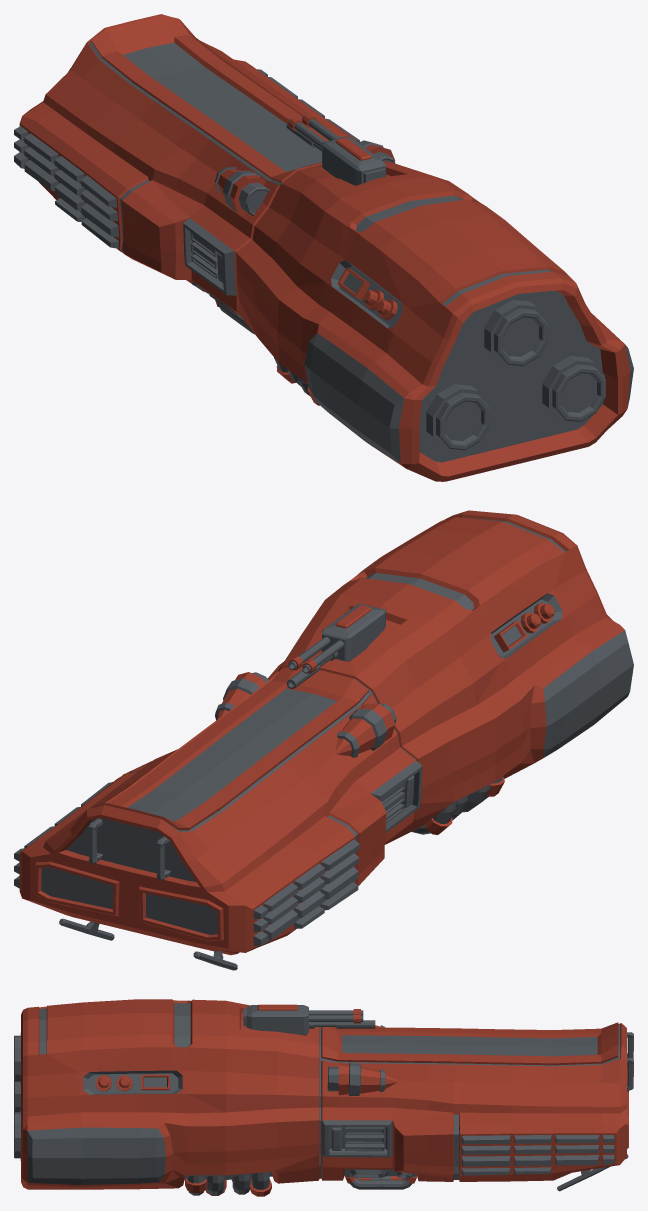
The model's file is Dropship_03_Red.fbx.
3 views of the same model, one above another, from view 1: azimuth 30°, elevation 25°; view 2: azimuth 150°, elevation 25°; view 3: azimuth 270°, elevation 25° (orthographic). The views are drawn at different scales.
Visible parts, largest first — view 1: Dropship_03_Red; view 2: Dropship_03_Red; view 3: Dropship_03_Red.
Part boxes in pixels (x1,y1,x2,y2): Dropship_03_Red: (14, 14, 633, 481); Dropship_03_Red: (14, 510, 633, 970); Dropship_03_Red: (14, 999, 633, 1196).
Size of the model in its own units: 395 by 322 by 1085.
2 materials, 2 textured.
